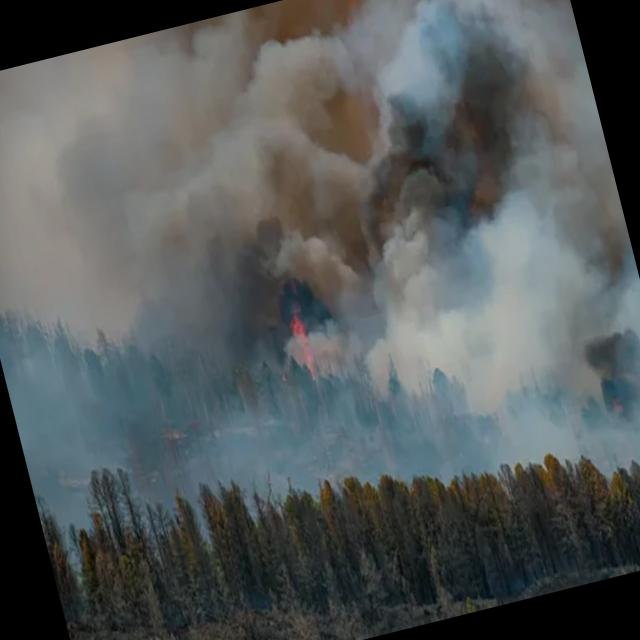Smoke: (17, 0, 637, 405)
